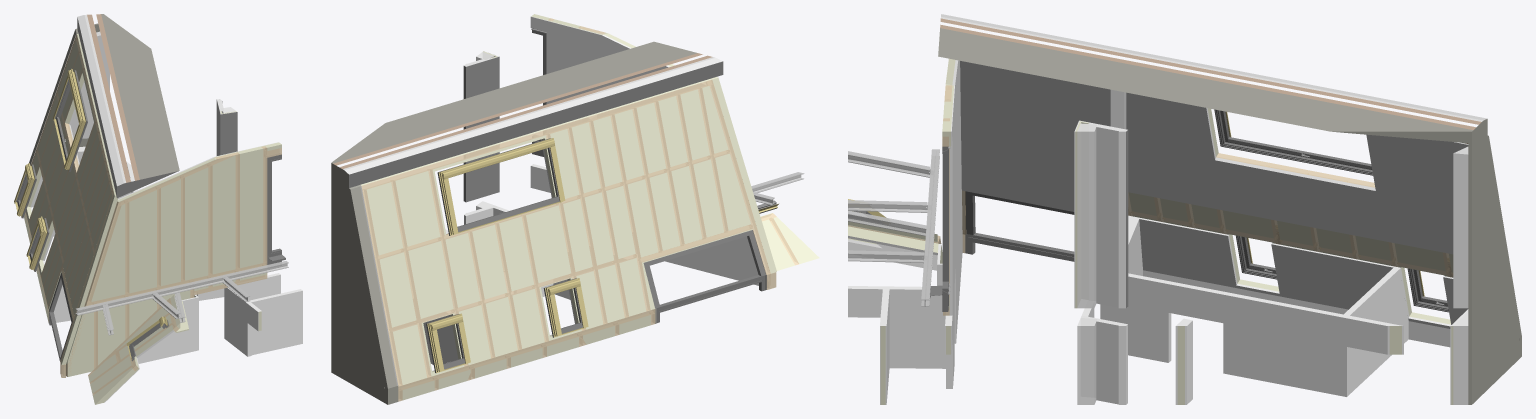
The model's file is GoldenNugget_Structure.glb.
3 renders of one model, left to right at view 1: azimuth 30°, elevation 25°; view 2: azimuth 150°, elevation 25°; view 3: azimuth 270°, elevation 25°, orthographic. The views are drawn at different scales.
Visible parts, largest first — view 1: Basic Wall[1234710], Dämmung Hauptdach[4214690], Basic Roof[1217854], Basic Wall[1419205], Basic Wall[1294917], Basic Roof[4233698], Basic Wall[1294848], HEB Träger[1919621], FE - Dachfenster[1256887], Basic Wall[1410391], FE TUER 2 tlg - SchiebeKipp[4237503], Basic Wall[3872554] (+28 smaller); view 2: Dämmung Hauptdach[4214690], Basic Roof[1217854], Basic Wall[1167880], Basic Wall[1214351], Golden Nugget_Wandabschluss Dach Nordost[1220357], Basic Wall[1419650], FE - Dachfenster[1256887], Basic Wall[4212395], Basic Wall[3872576], Basic Wall[1221366], Skelettbau Holz - Pfette[4219047], Basic Roof[4233698] (+23 smaller); view 3: Basic Roof[1421360], Basic Roof[1217854], Basic Wall[1287145], Basic Roof[1420737], Basic Roof[1372223], Dämmung Hauptdach[4214690], Basic Wall[1294848], Basic Wall[1288478], Basic Wall[1214351], Basic Wall[1167880], Ortbeton - Stütze - rechteckig[1166600], Basic Wall[1287289] (+26 smaller).
Part boxes in pixels (box(x1,y1,x2,y2)): Basic Wall[1234710]: box(91, 143, 281, 301); Dämmung Hauptdach[4214690]: box(26, 33, 118, 364); Basic Roof[1217854]: box(77, 14, 179, 198); Basic Wall[1419205]: box(66, 273, 266, 376); Basic Wall[1294917]: box(250, 289, 302, 355); Basic Roof[4233698]: box(88, 295, 180, 404); Basic Wall[1294848]: box(224, 287, 261, 356); HEB Träger[1919621]: box(75, 261, 288, 315); FE - Dachfenster[1256887]: box(53, 69, 87, 171); Basic Wall[1410391]: box(137, 297, 197, 363); FE TUER 2 tlg - SchiebeKipp[4237503]: box(267, 154, 285, 264); Basic Wall[3872554]: box(220, 112, 237, 155); Dämmung Hauptdach[4214690]: box(360, 77, 776, 384); Basic Roof[1217854]: box(331, 41, 723, 187); Basic Wall[1167880]: box(331, 298, 384, 402); Basic Wall[1214351]: box(331, 172, 371, 321); Golden Nugget_Wandabschluss Dach Nordost[1220357]: box(346, 185, 398, 388); Basic Wall[1419650]: box(546, 20, 669, 104); FE - Dachfenster[1256887]: box(437, 138, 565, 235); Basic Wall[4212395]: box(402, 315, 650, 400); Basic Wall[3872576]: box(466, 57, 499, 202); Basic Wall[1221366]: box(665, 236, 758, 285); Skelettbau Holz - Pfette[4219047]: box(361, 79, 713, 190); Basic Roof[4233698]: box(760, 213, 819, 270); Basic Roof[1421360]: box(960, 61, 1221, 217); Basic Roof[1217854]: box(938, 14, 1487, 143); Basic Wall[1287145]: box(1116, 273, 1403, 396); Basic Roof[1420737]: box(1204, 107, 1468, 254); Basic Roof[1372223]: box(1134, 217, 1468, 347); Dämmung Hauptdach[4214690]: box(1128, 108, 1464, 324); Basic Wall[1294848]: box(848, 286, 954, 368); Basic Wall[1288478]: box(1089, 122, 1127, 308); Basic Wall[1214351]: box(1468, 137, 1507, 308); Basic Wall[1167880]: box(1468, 274, 1519, 404); Ortbeton - Stütze - rechteckig[1166600]: box(1077, 123, 1096, 308); Basic Wall[1287289]: box(1344, 268, 1408, 393).
Size of what is drawn, in the model's own units: 5.53 by 4.45 by 9.93.
